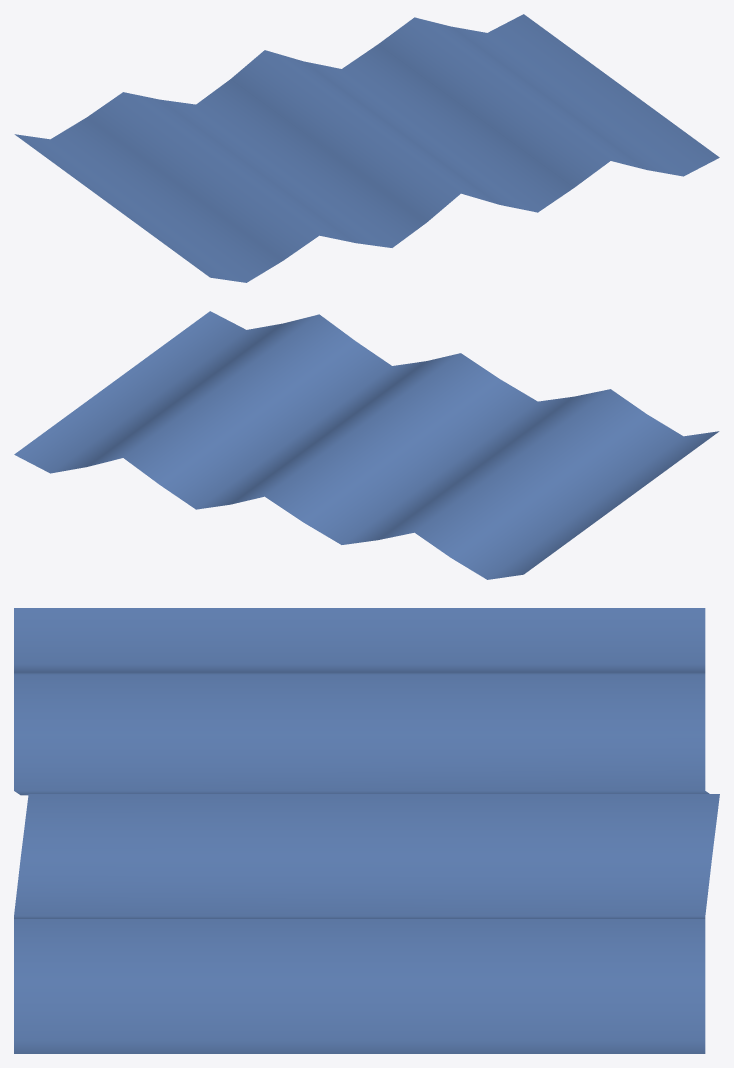
Rendered from map.dae.
3 views of the same model, one above another, from view 1: azimuth 30°, elevation 25°; view 2: azimuth 150°, elevation 25°; view 3: azimuth 270°, elevation 25° (orthographic). The views are drawn at different scales.
Visible parts, largest first — view 1: Map; view 2: Map; view 3: Map.
Boxes of the visible parts, box(x1,y1,x2,y2) form: Map: box(14, 14, 719, 282); Map: box(14, 311, 719, 579); Map: box(14, 608, 719, 1053).
Size of the model in its own units: 12 by 8.17 by 0.763.
